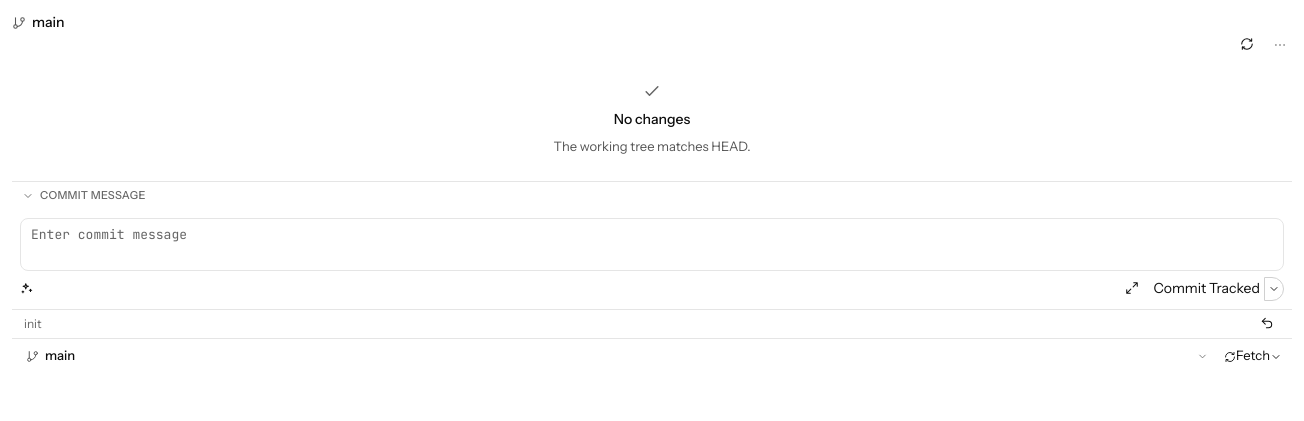
Test case: trust banner › Restrict Git is reachable when the working tree is clean
Click the button named "Git options" at point(1280, 45), box [1268, 33, 1292, 57]
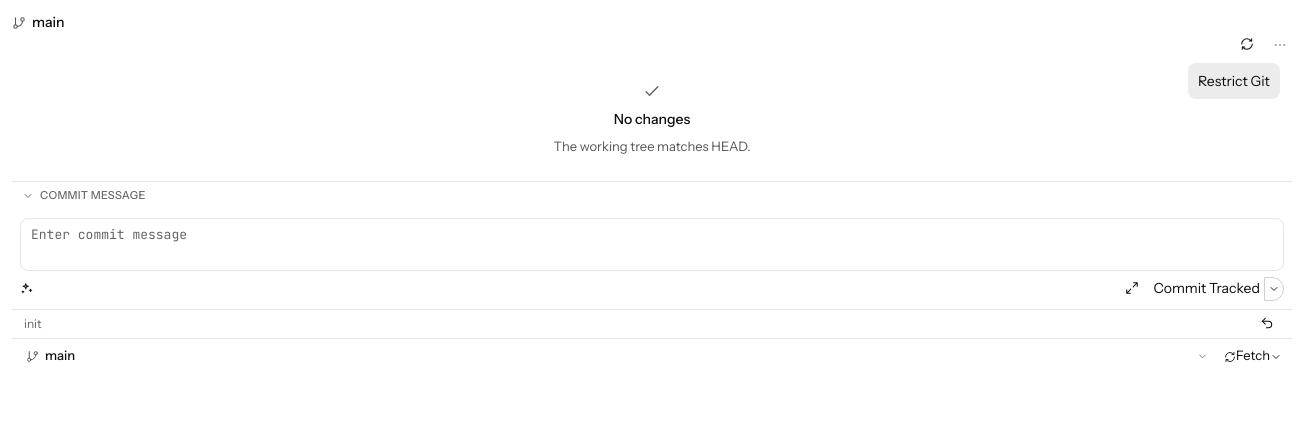
Click the menu item "Restrict Git" at point(1234, 81), box [1188, 63, 1280, 99]
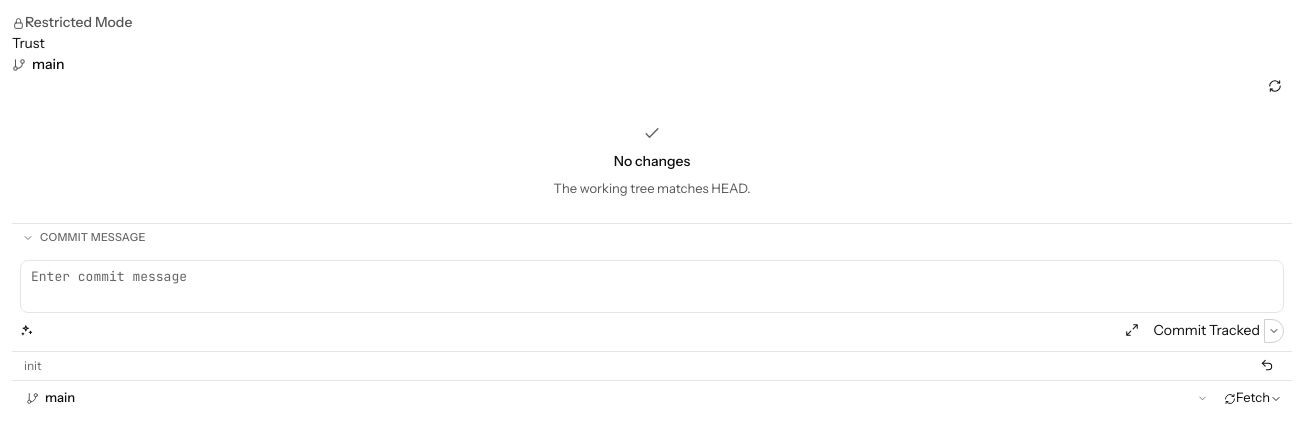
expect the text "Restricted Mode" is shown: met, box [25, 13, 132, 31]
